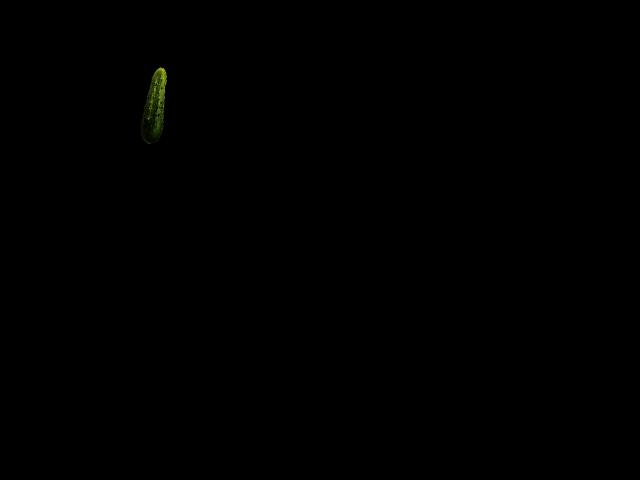cucumber: (136, 65, 172, 146)
